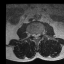CCS_normal: (35, 31, 37, 40)
LFS_normal: (38, 30, 41, 37)
LLS_normal: (37, 31, 39, 39)
RFS_normal: (31, 31, 33, 38)
RLS_normal: (33, 31, 35, 39)
